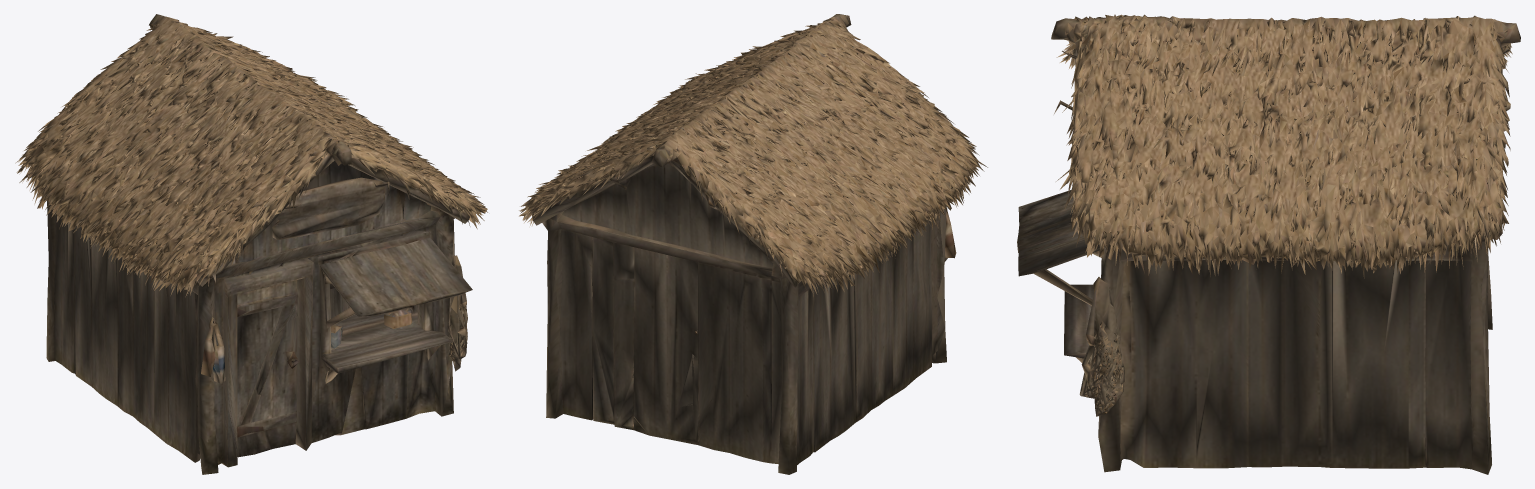
File: kram_z_przynetami.glb
The picture shows the model from 3 angles, left to right: view 1: azimuth 30°, elevation 25°; view 2: azimuth 150°, elevation 25°; view 3: azimuth 270°, elevation 25°; orthographic projection. The views are drawn at different scales.
Visible parts, largest first — view 1: Mesh_0; view 2: Mesh_0; view 3: Mesh_0.
Boxes of the visible parts, x1=… form: Mesh_0: x1=15, y1=14, x2=487, y2=474; Mesh_0: x1=519, y1=14, x2=987, y2=474; Mesh_0: x1=1017, y1=14, x2=1520, y2=474.
Bounding box in the file's own units: 1.78 × 1.61 × 1.9.
Materials: 1 (1 with a texture image).
